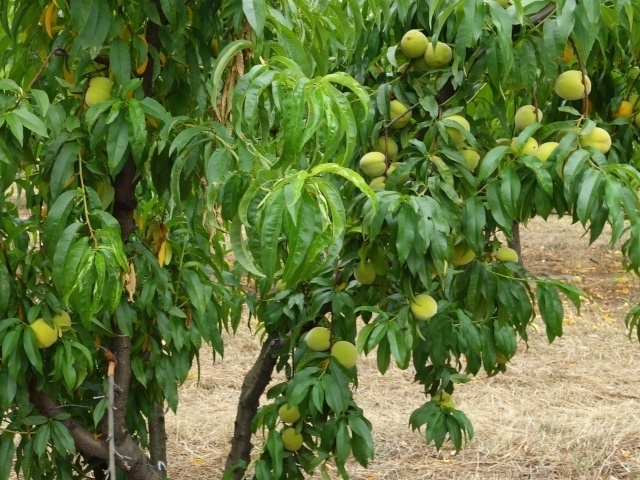peach: (77, 71, 120, 117), (554, 65, 593, 105), (25, 314, 65, 350), (397, 24, 431, 63), (451, 137, 485, 173), (578, 123, 612, 159), (444, 109, 476, 146), (406, 290, 439, 325), (419, 39, 454, 71), (513, 100, 546, 133), (386, 96, 418, 129), (304, 322, 336, 355), (329, 338, 360, 372), (359, 148, 390, 181), (508, 131, 542, 160), (537, 137, 569, 167), (491, 241, 521, 269), (450, 243, 479, 271), (279, 425, 305, 456), (275, 398, 303, 426), (374, 134, 401, 162), (354, 258, 379, 288), (380, 157, 407, 181), (427, 388, 454, 412), (366, 170, 392, 194), (56, 305, 76, 330)
